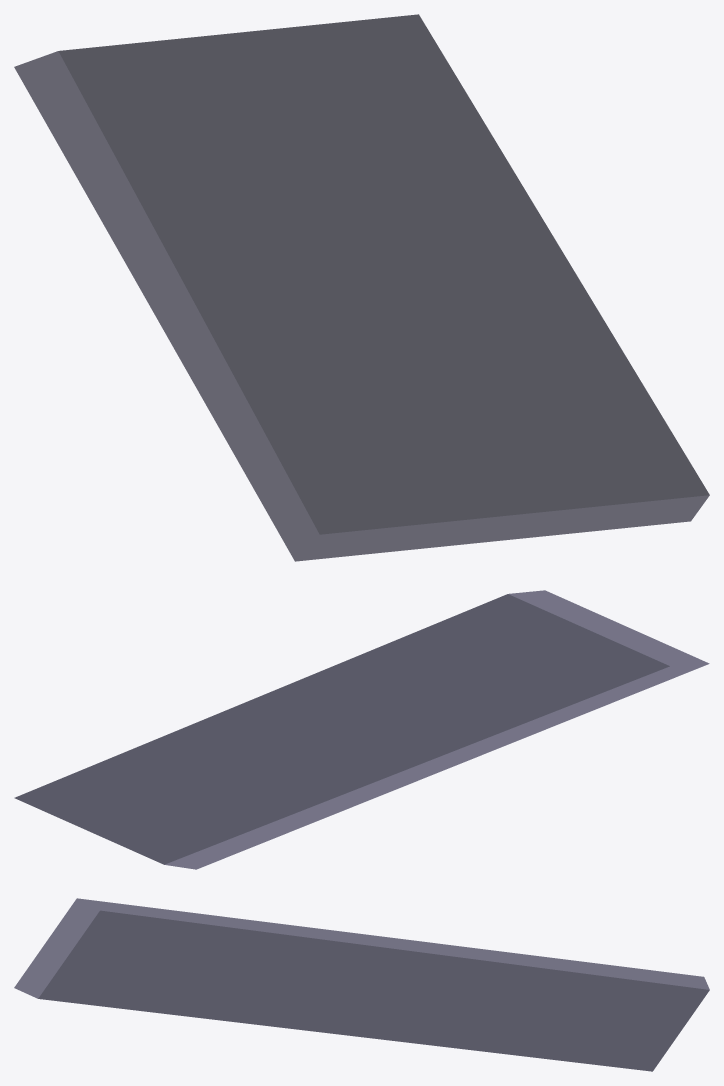
3 views of the same model, one above another, from view 1: azimuth 30°, elevation 25°; view 2: azimuth 150°, elevation 25°; view 3: azimuth 270°, elevation 25° (orthographic). The views are drawn at different scales.
Visible parts, largest first — view 1: Joint_0_Object_0; view 2: Joint_0_Object_0; view 3: Joint_0_Object_0.
Part boxes in pixels (x1,y1,x2,y2): Joint_0_Object_0: (14, 14, 709, 561); Joint_0_Object_0: (15, 590, 709, 869); Joint_0_Object_0: (14, 898, 709, 1071).
Bounding box in the file's own units: 216 × 0 × 366.
1 material, 1 textured.
